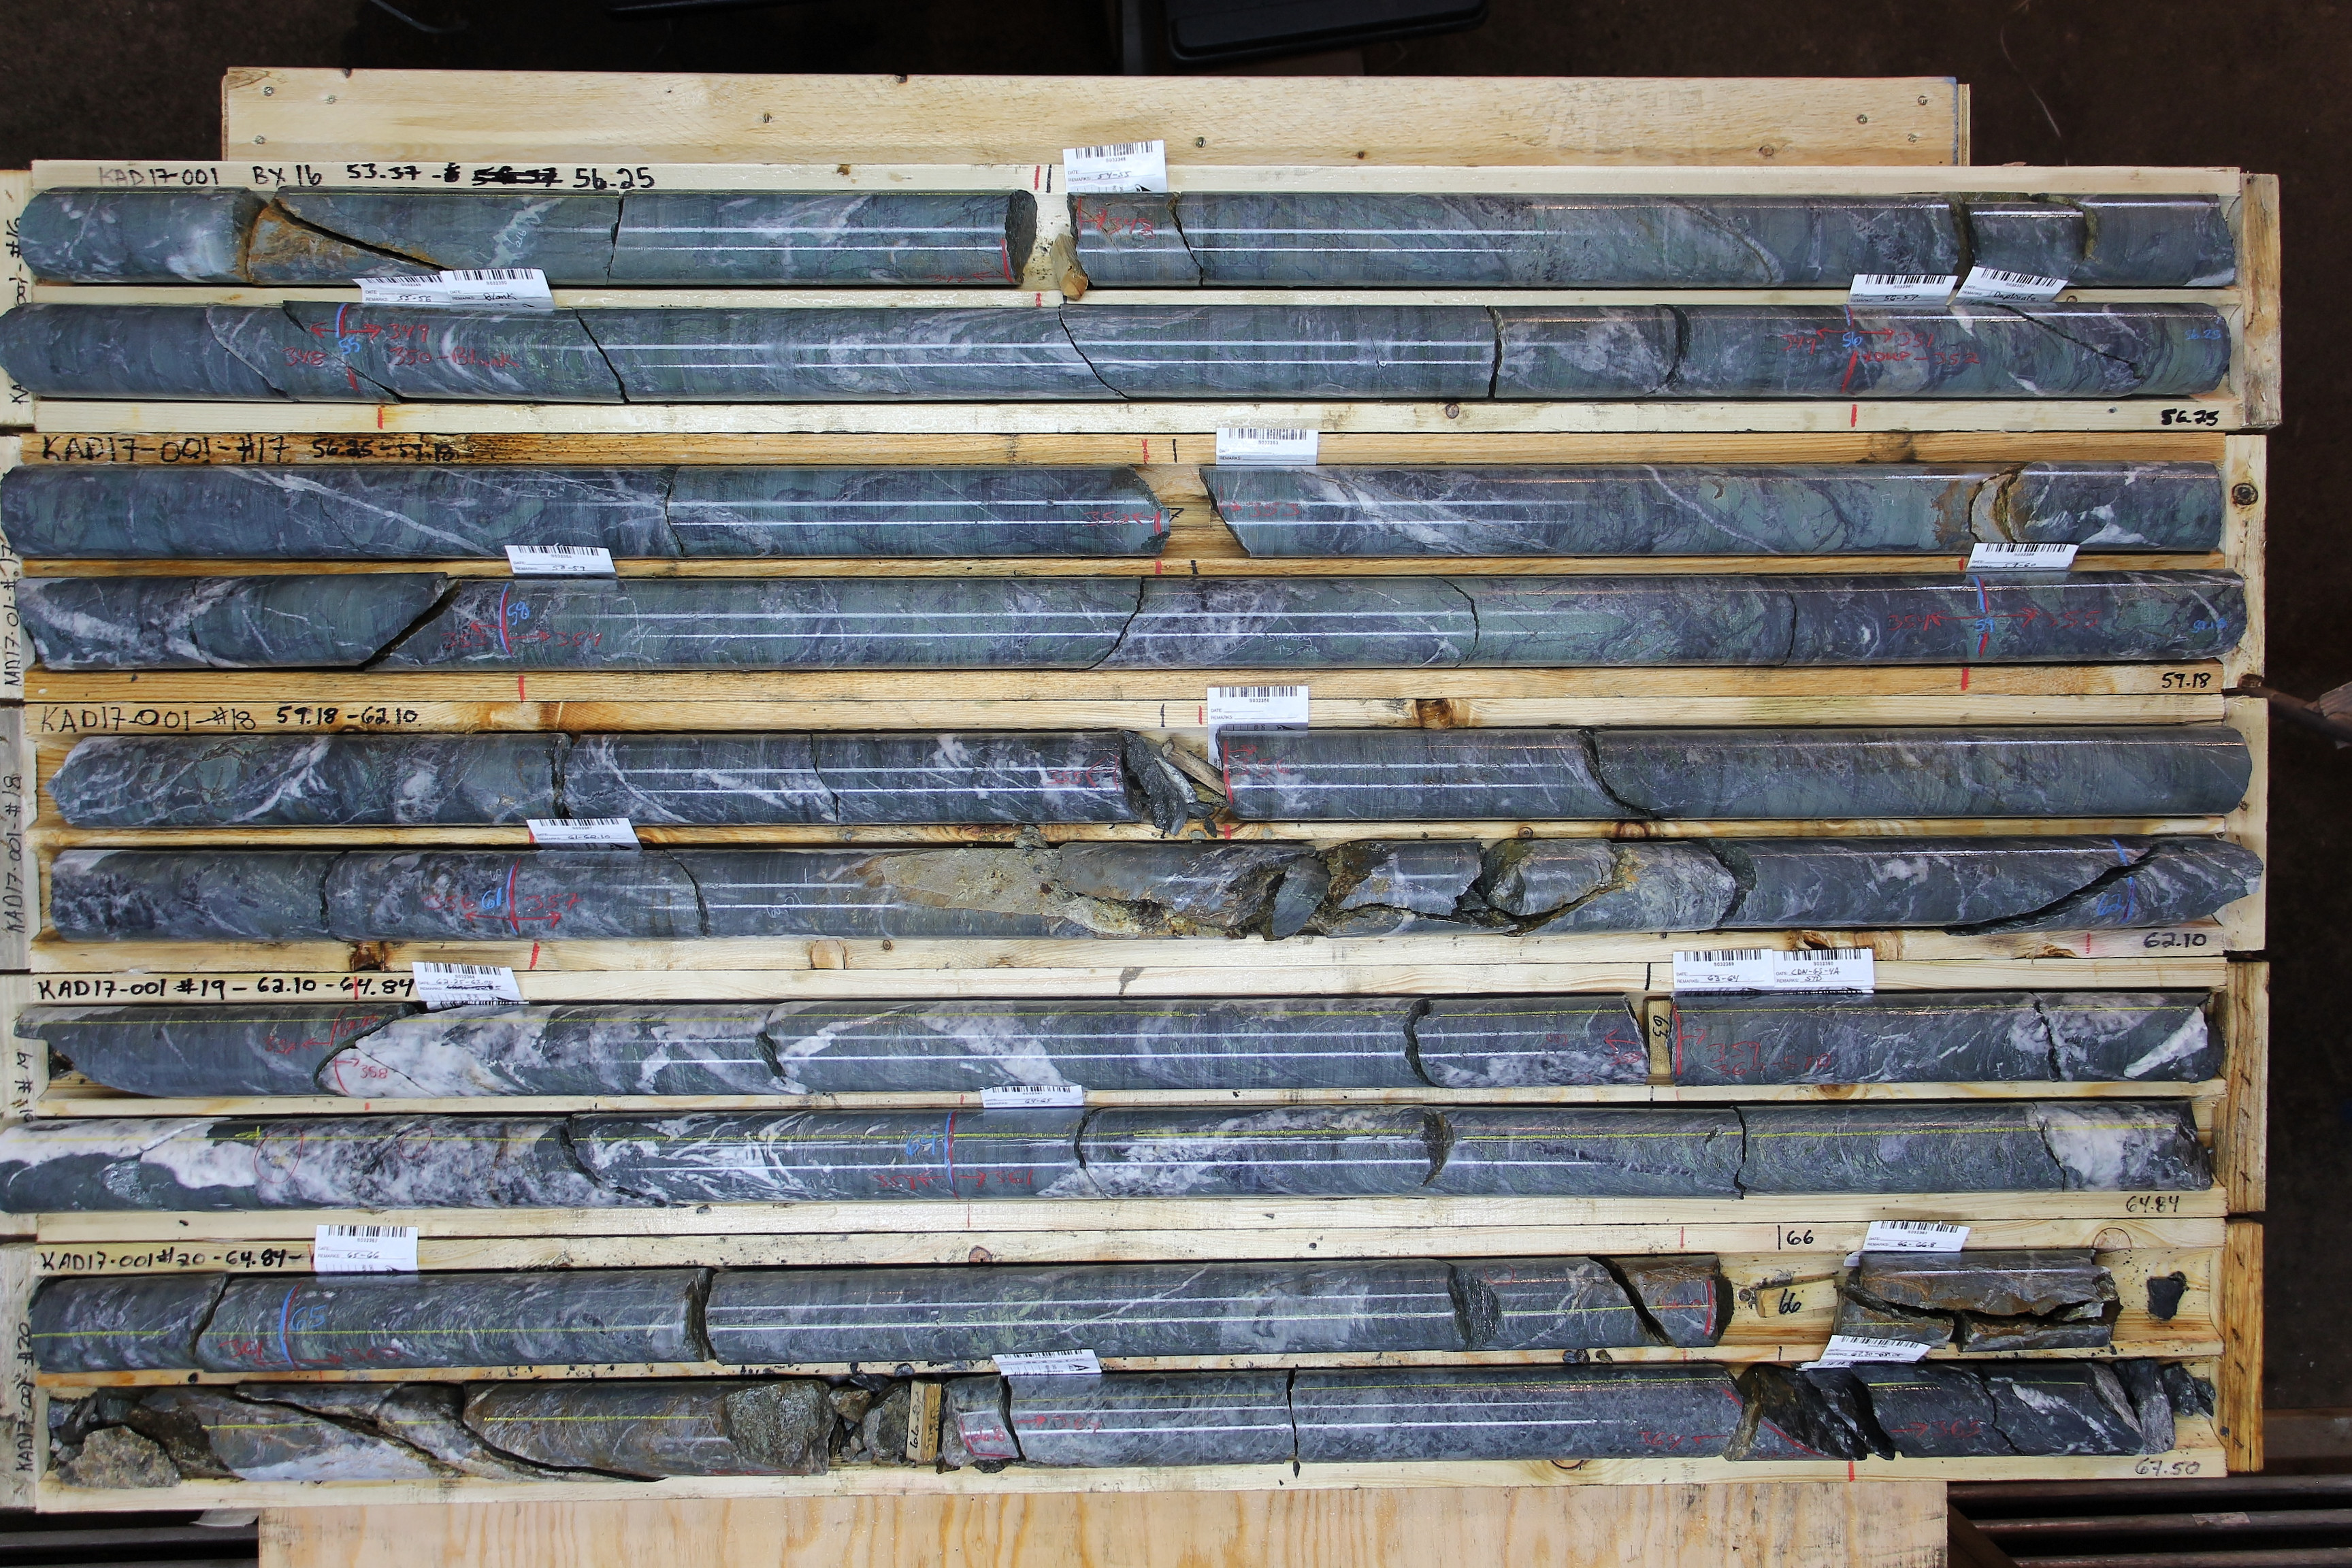rock-KAD17_001-53.37-54: (31, 190, 1010, 280)
rock-KAD17_001-54-54x: (1078, 201, 2225, 278)
rock-KAD17_001-54x-55: (30, 308, 350, 397)
rock-KAD17_001-55-56: (352, 312, 1855, 402)
rock-KAD17_001-56-56x: (1858, 312, 2227, 397)
rock-KAD17_001-56x-57: (21, 467, 1156, 554)
rock-KAD17_001-57-57x: (1222, 466, 2218, 551)
rock-KAD17_001-57x-58: (26, 578, 511, 673)
rock-KAD17_001-58-59: (513, 581, 1986, 664)
rock-KAD17_001-59-59x: (1989, 580, 2229, 658)
rock-KAD17_001-59x-60: (56, 735, 1129, 821)
rock-KAD17_001-60-60x: (1226, 726, 2223, 816)
rock-KAD17_001-60x-61: (54, 849, 511, 943)
rock-KAD17_001-61-62: (515, 848, 2115, 934)
rock-KAD17_001-62-62x: (2120, 847, 2230, 926)
rock-KAD17_001-62x-63: (35, 998, 1648, 1096)
rock-KAD17_001-63-63x: (1676, 996, 2221, 1083)
rock-KAD17_001-63x-64: (36, 1111, 945, 1211)
rock-KAD17_001-64-64x: (951, 1098, 2200, 1204)
rock-KAD17_001-64x-65: (44, 1281, 286, 1367)
rock-KAD17_001-65-66: (291, 1260, 1712, 1362)
rock-KAD17_001-66-66x: (1840, 1255, 2112, 1339)
rock-KAD17_001-66.8-67.5: (968, 1363, 2158, 1467)
rock-KAD17_001-66x-66.8: (80, 1385, 898, 1477)
